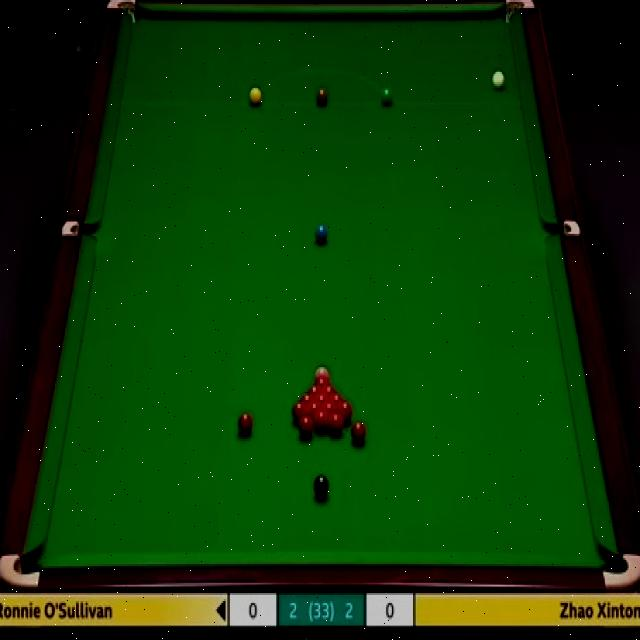black-ball: (312, 472, 328, 498)
blue-ball: (314, 224, 329, 242)
brown-ball: (314, 87, 330, 105)
green-ball: (380, 85, 394, 107)
pink-ball: (315, 367, 330, 381)
red-ball: (296, 414, 314, 438), (335, 400, 351, 422), (314, 409, 329, 432), (328, 413, 343, 436), (237, 415, 253, 435), (292, 401, 306, 423), (323, 402, 337, 423), (352, 422, 366, 443), (301, 392, 313, 406), (316, 394, 327, 406), (316, 378, 326, 391)
white-ball: (492, 70, 506, 90)
yellow-ball: (249, 86, 262, 107)
